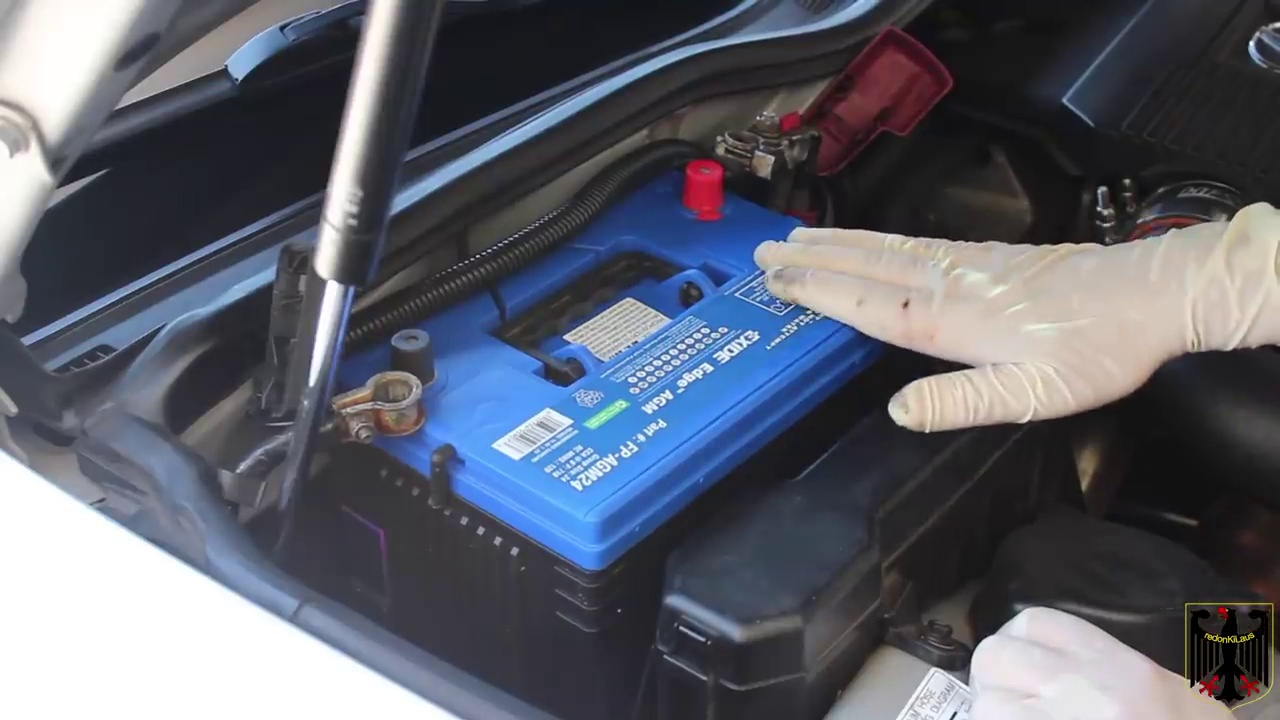battery: (294, 155, 894, 544)
pos_disconnected: (664, 54, 913, 241)
